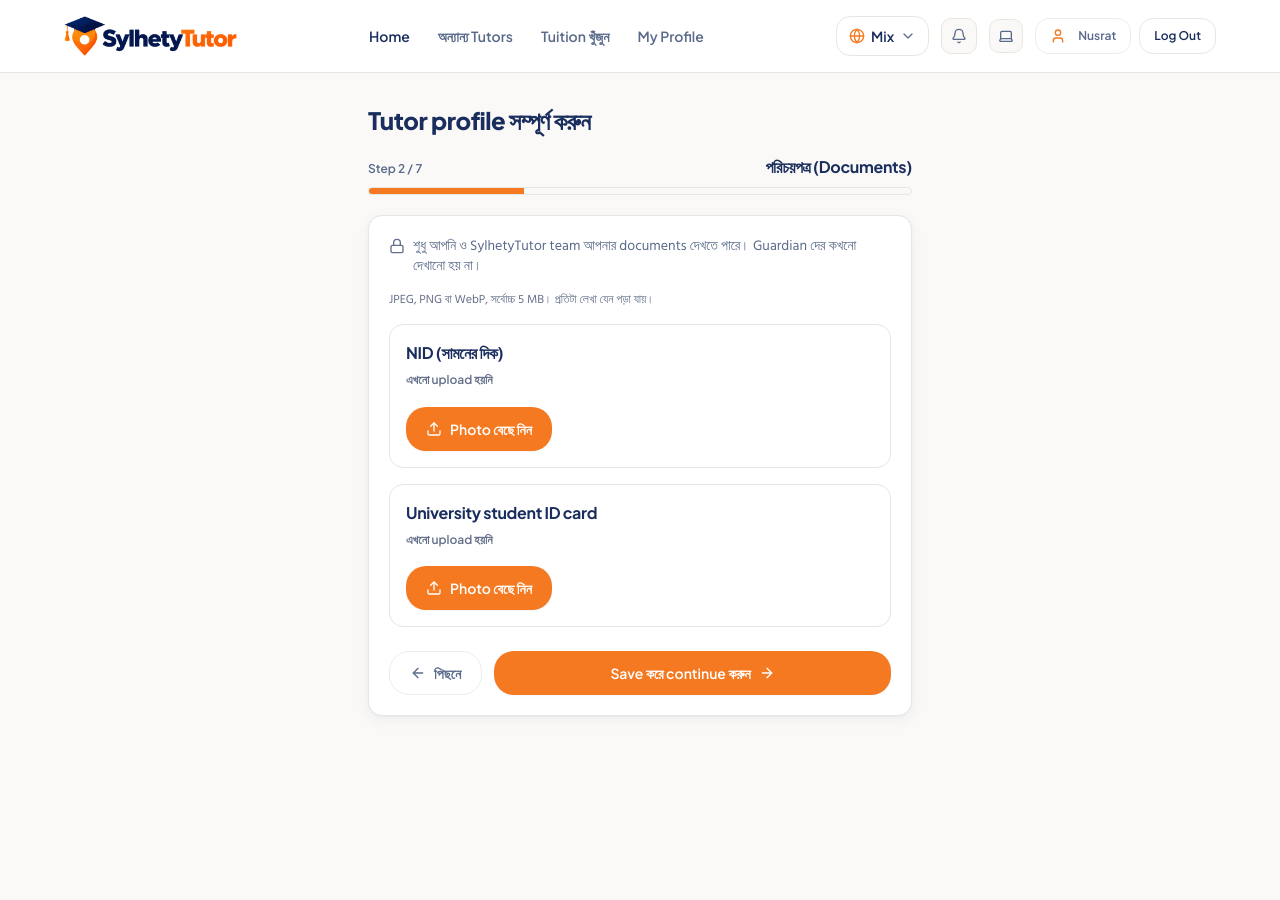
Scenario: TutorRegistration › holds the tutor on the documents step until both are uploaded
This screenshot has width=1280, height=900.
Click the button "Save করে continue করুন".
click(693, 673)  # box [494,651,891,695]
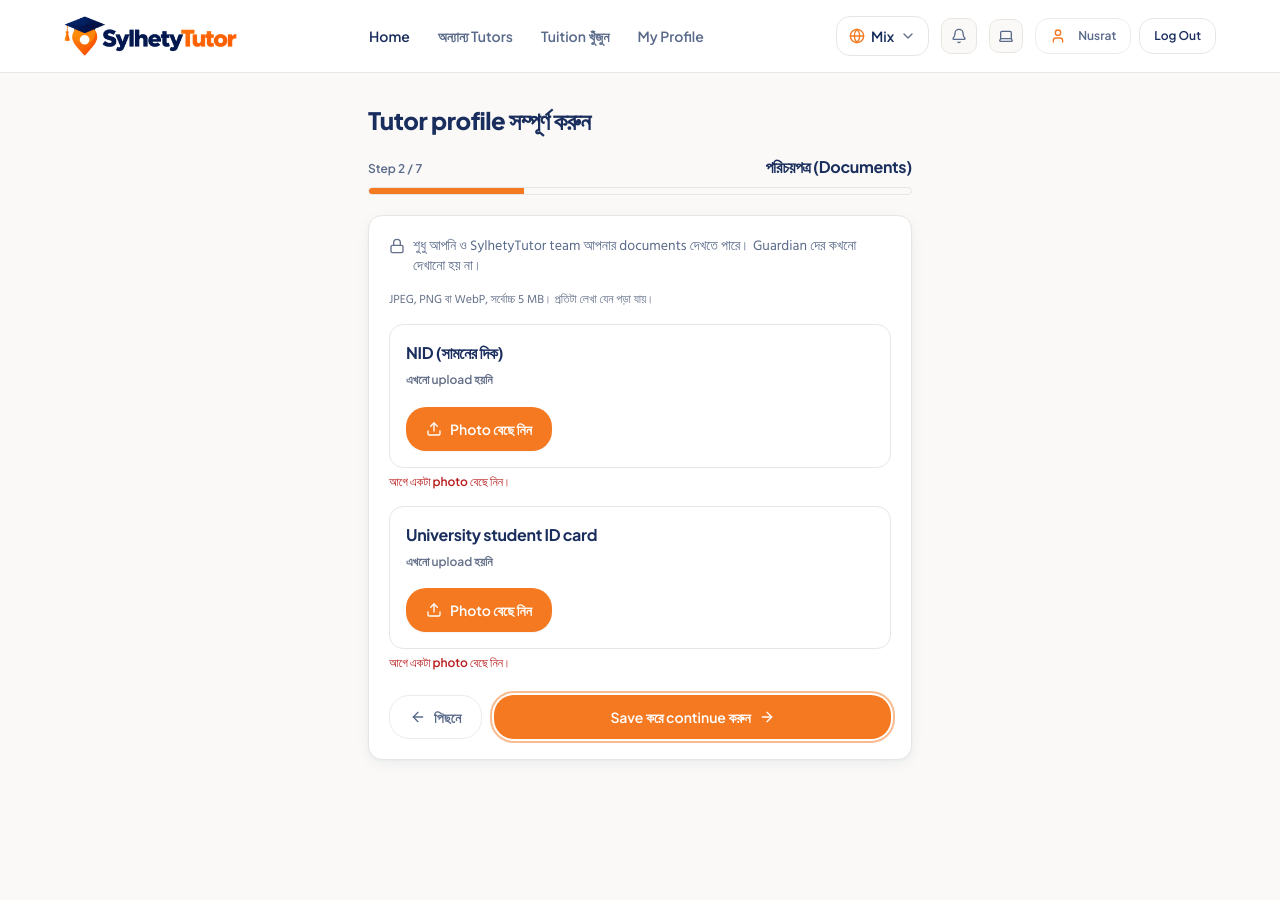
Result: the text "আগে একটা photo বেছে নিন।" is shown 2 times at [389,474,511,489]; [389,655,511,670]
